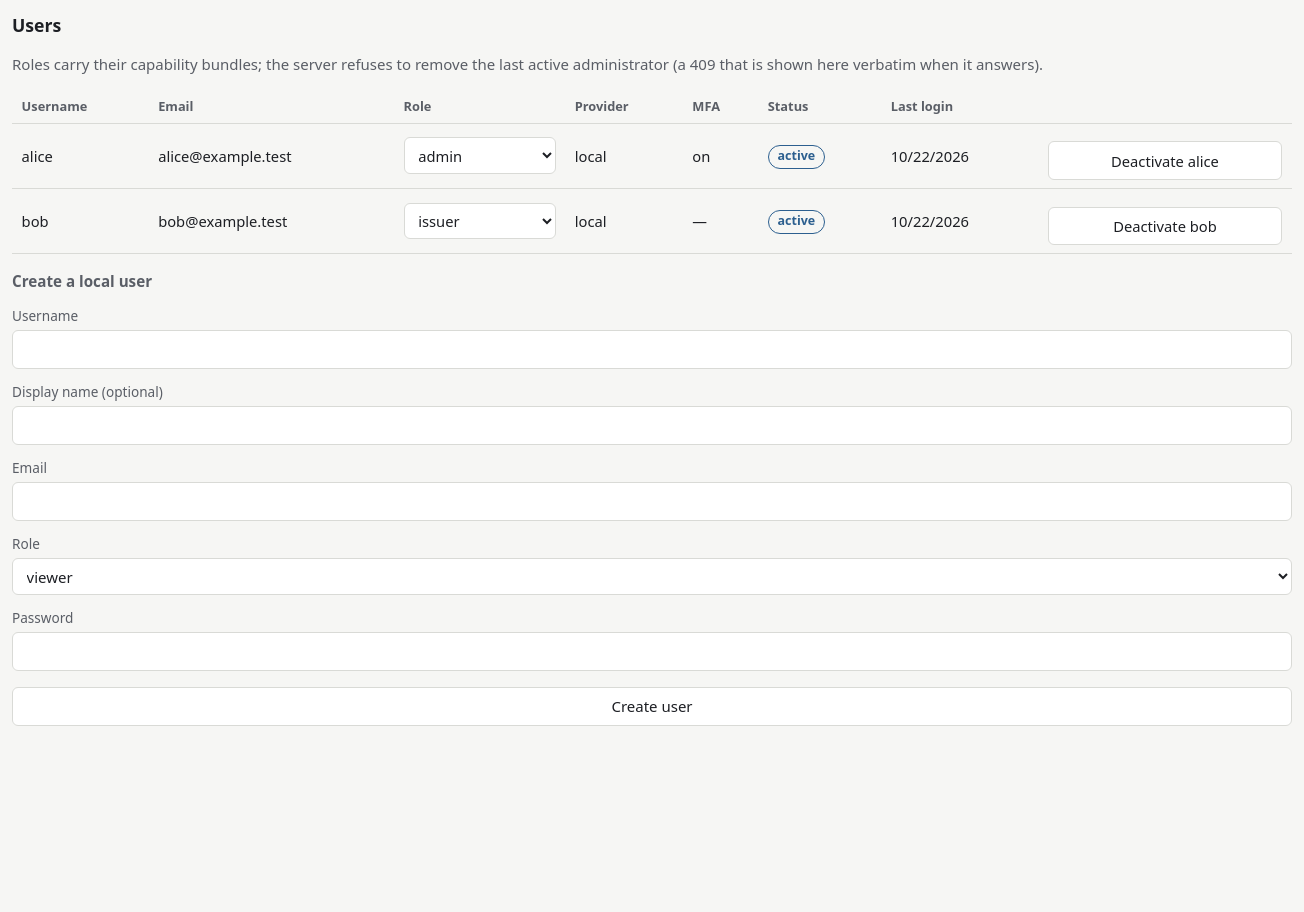
AdminUsers › PATCHes exactly the changed role and re-renders the row from the response
Expected: the text "bob" is shown, [12,188,149,253]
Select "viewer" in the dropdown named "Role for bob" at [480, 221], box [404,202,556,239]
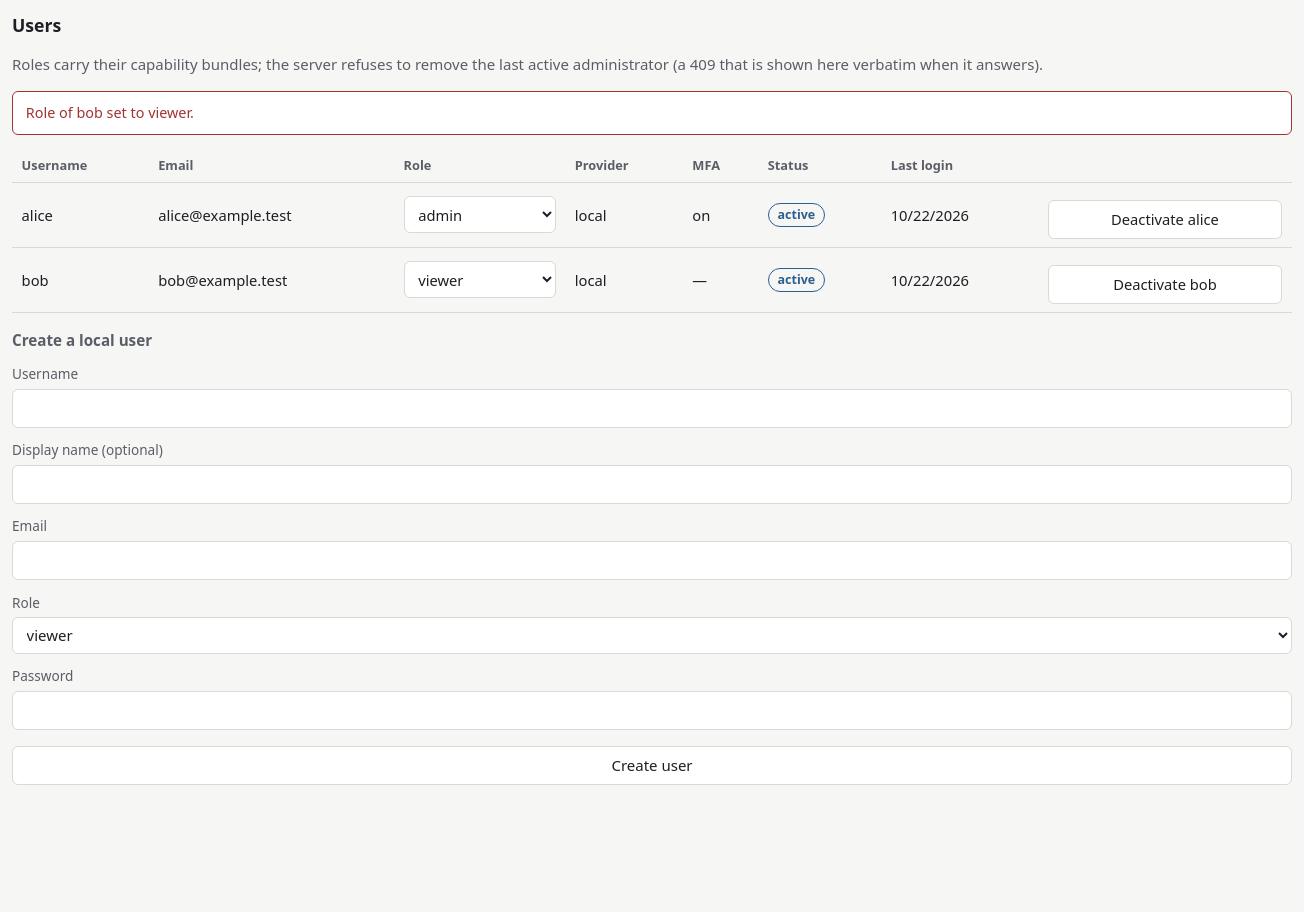
Now the text "Role of bob set to viewer." is shown, box [12,91,1292,135]
